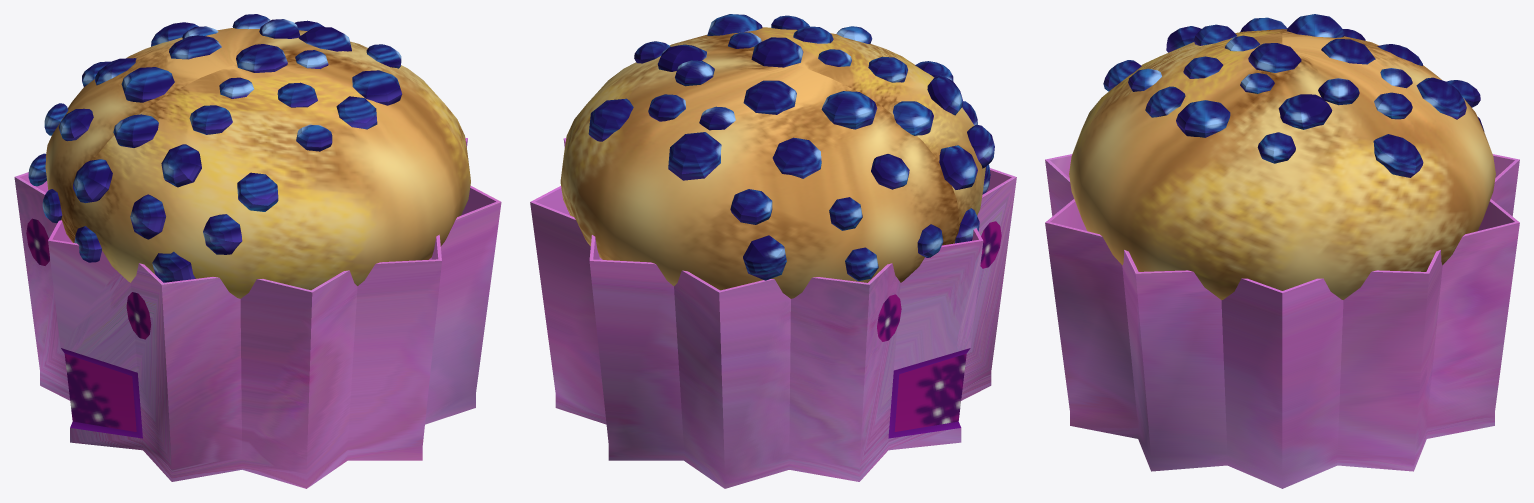
Rendered from blueberry cupcake.fbx.
The picture shows the model from 3 angles, left to right: view 1: azimuth 30°, elevation 25°; view 2: azimuth 150°, elevation 25°; view 3: azimuth 270°, elevation 25°; orthographic projection.
Visible parts, largest first — view 1: pCylinder2; view 2: pCylinder2; view 3: pCylinder2.
Boxes of the visible parts, x1,y1,x2,y2 form: pCylinder2: (14, 14, 501, 488); pCylinder2: (530, 14, 1016, 488); pCylinder2: (1045, 14, 1519, 488).
Bounding box in the file's own units: 16.35 × 13.11 × 16.07.
1 material, 1 textured.
